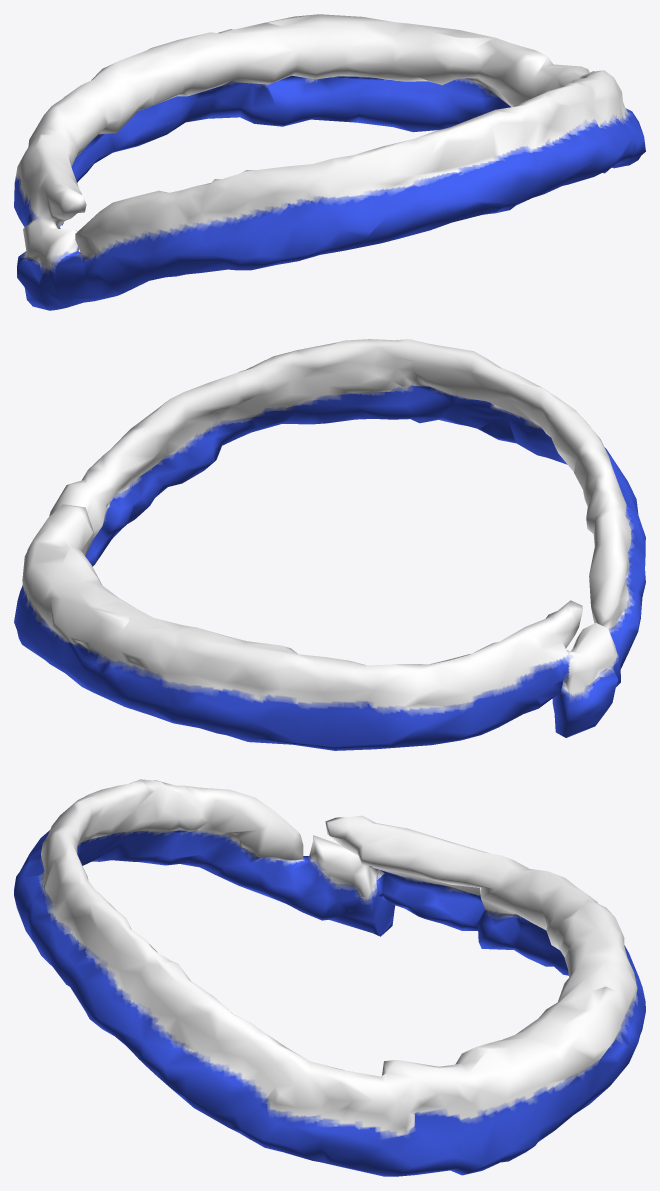
The model's file is headband blue-white.glb.
The picture shows the model from 3 angles, top to bottom: view 1: azimuth 30°, elevation 25°; view 2: azimuth 150°, elevation 25°; view 3: azimuth 270°, elevation 25°; orthographic projection. The views are drawn at different scales.
Visible parts, largest first — view 1: headband_blue_white.001; view 2: headband_blue_white.001; view 3: headband_blue_white.001.
Boxes of the visible parts, bbox=[...] form: headband_blue_white.001: bbox=[14, 14, 645, 310]; headband_blue_white.001: bbox=[14, 339, 645, 750]; headband_blue_white.001: bbox=[14, 779, 645, 1176].
Bounding box in the file's own units: 0.37 × 0.1376 × 0.3429.
Materials: 1 (1 with a texture image).
